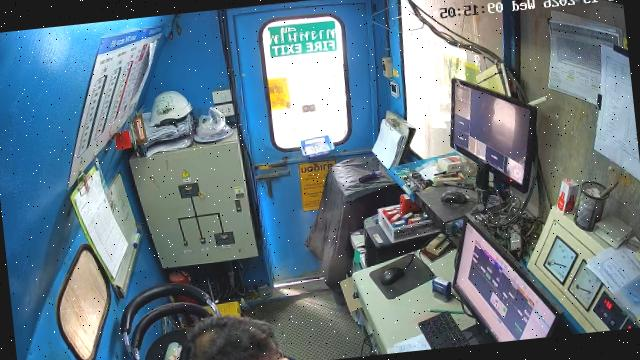Head: (185, 319, 278, 359)
